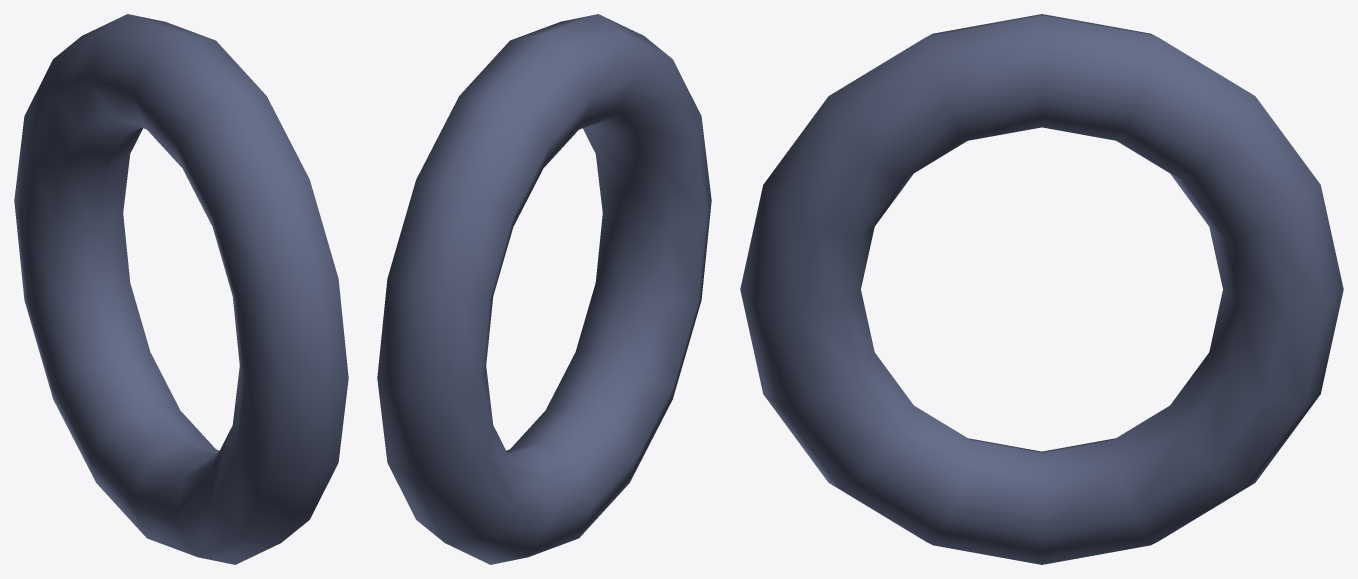
File: charm_ring.fbx
3 renders of one model, left to right at view 1: azimuth 30°, elevation 25°; view 2: azimuth 150°, elevation 25°; view 3: azimuth 270°, elevation 25°, orthographic. The views are drawn at different scales.
Visible parts, largest first — view 1: charm_ring; view 2: charm_ring; view 3: charm_ring.
Boxes of the visible parts, bbox=[...] form: charm_ring: bbox=[14, 14, 348, 564]; charm_ring: bbox=[377, 14, 711, 564]; charm_ring: bbox=[740, 14, 1343, 564].
Bounding box in the file's own units: 0.2029 × 1.01 × 1.01.
